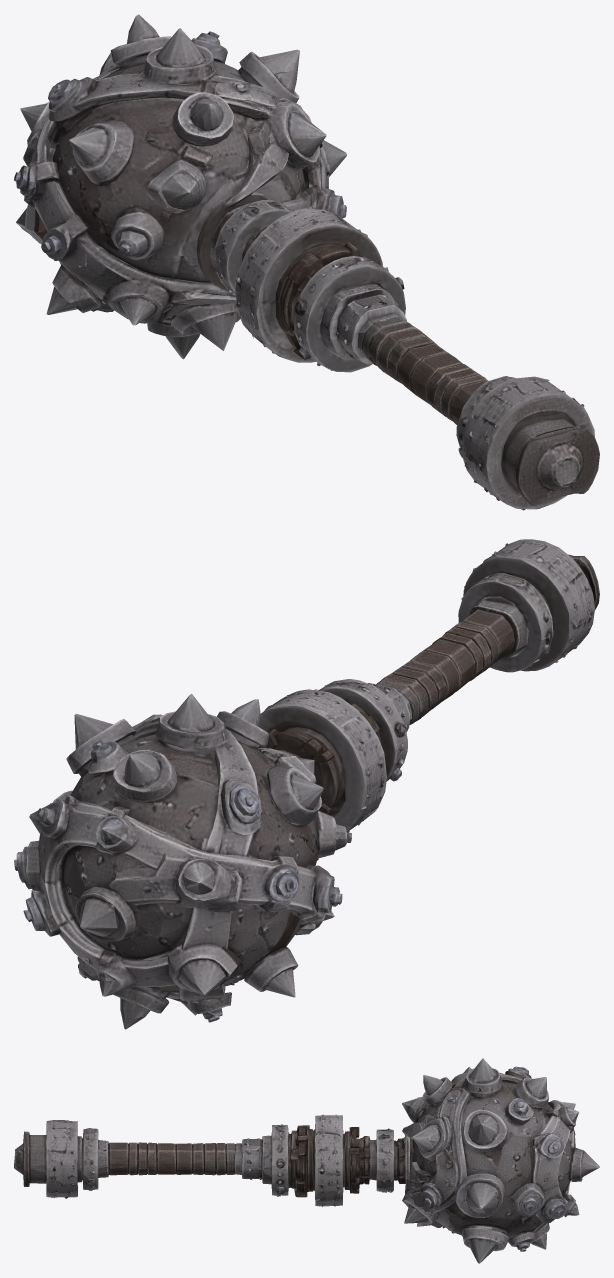
File: mace.glb
3 renders of one model, top to bottom at view 1: azimuth 30°, elevation 25°; view 2: azimuth 150°, elevation 25°; view 3: azimuth 270°, elevation 25°, orthographic. The views are drawn at different scales.
Visible parts, largest first — view 1: Mesh_0; view 2: Mesh_0; view 3: Mesh_0.
Part boxes in pixels (bbox=[...]): Mesh_0: bbox=[14, 14, 599, 510]; Mesh_0: bbox=[14, 539, 599, 1029]; Mesh_0: bbox=[14, 1058, 599, 1263].
Bounding box in the file's own units: 0.7137 × 0.7229 × 1.92.
1 material, 1 textured.
